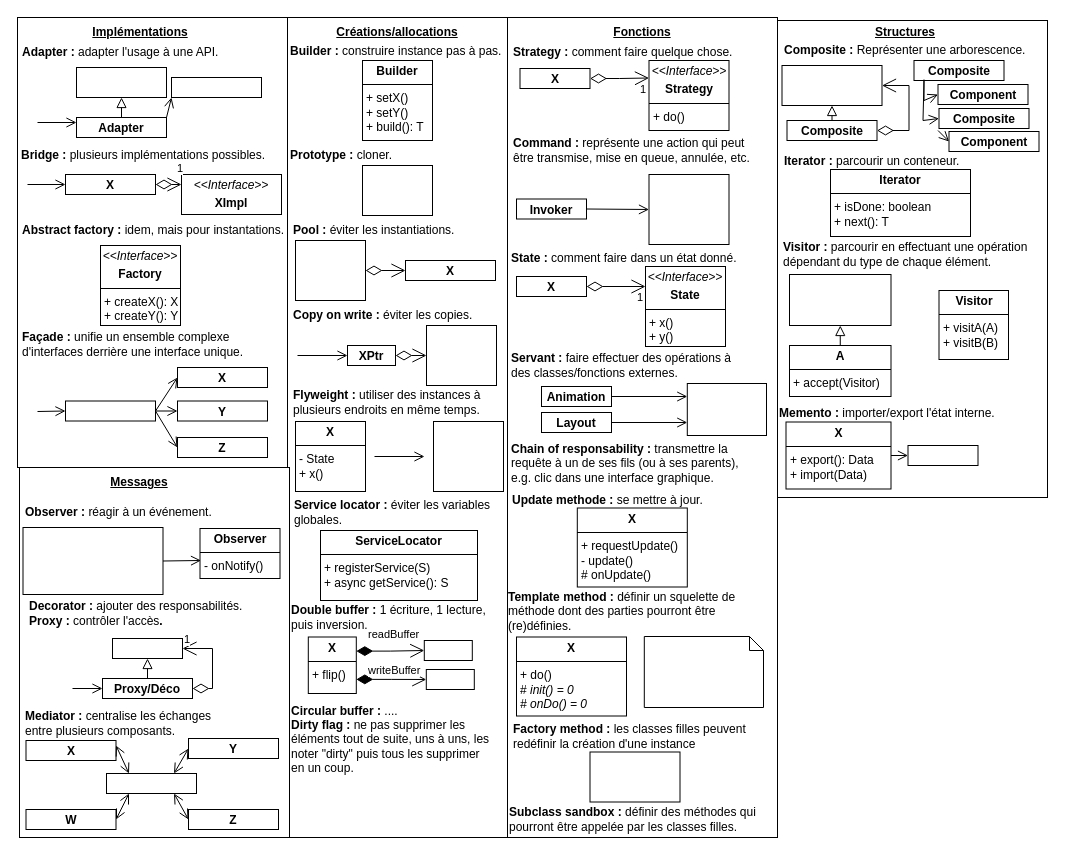
This 1065x858 diagram has some shape labels left out. Each missing label, with the centre of its shape:
"<<Interface>> Command + do()" goes at pixel 688 209.
"<<Interface>> Component" goes at pixel 831 85.
"<<Interface>> Target API" goes at pixel 121 82.
"BufferA" goes at pixel 447 650.
"BufferB" goes at pixel 449 679.
"Data" goes at pixel 942 455.
"do() { if( ! init ) this.init(); this.onDo(); }" goes at pixel 703 672.
"Element + accept(Visitor)" goes at pixel 839 300.
"Façade" goes at pixel 110 410.
"Impl" goes at pixel 216 87.
"Mediator" goes at pixel 151 783.
"Movable + setPos(x,y)" goes at pixel 726 409.
"Observed + observe(Observer) - notify()" goes at pixel 92 560.
"Pool + get(): X + release(X)" goes at pixel 330 270.
"Target" goes at pixel 147 648.
"X + clone() + count" goes at pixel 461 355.
"X + clone(): X" goes at pixel 397 190.
"X + createY():Y" goes at pixel 634 776.
"X + x(State)" goes at pixel 468 456.
